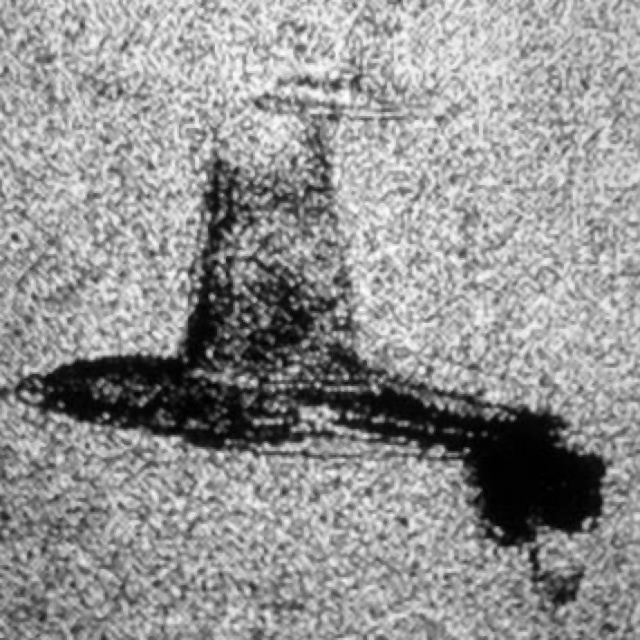Plane: (9, 84, 611, 552)
